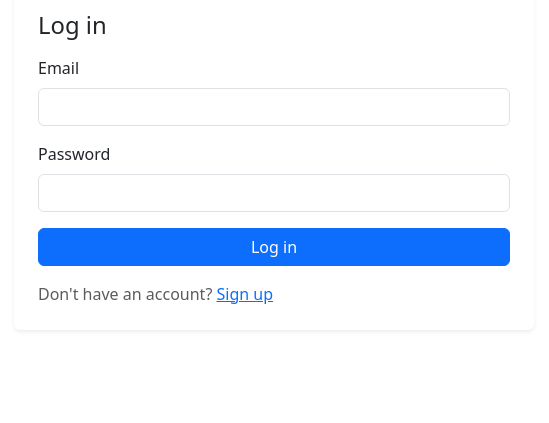
it: LoginPage › shows "Invalid email or password" for failed login
Type "test@example.com" into the field labelled "Email" at (274, 107), box x1=38 y1=88 x2=510 y2=126
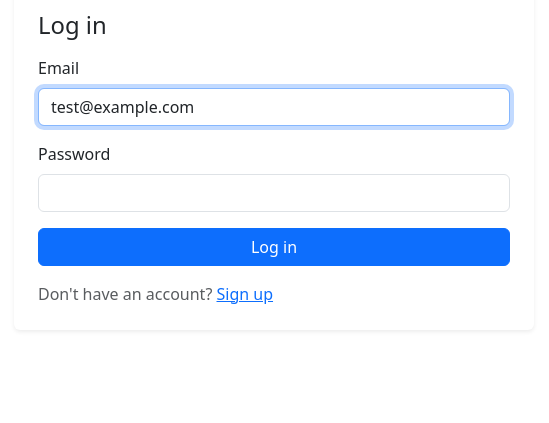
Type "password123" into the password field labelled "Password" at (274, 193), box x1=38 y1=174 x2=510 y2=212
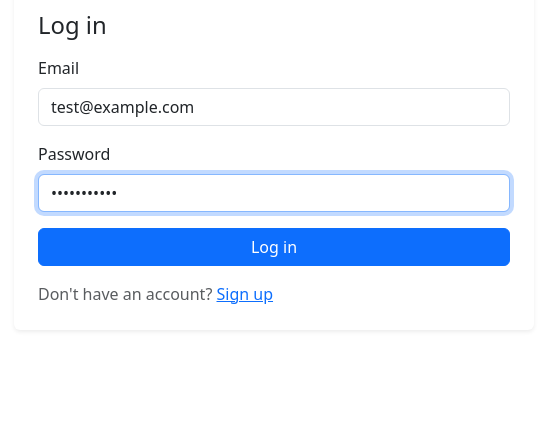
Click the button "Log in" at (274, 247), box x1=38 y1=228 x2=510 y2=266
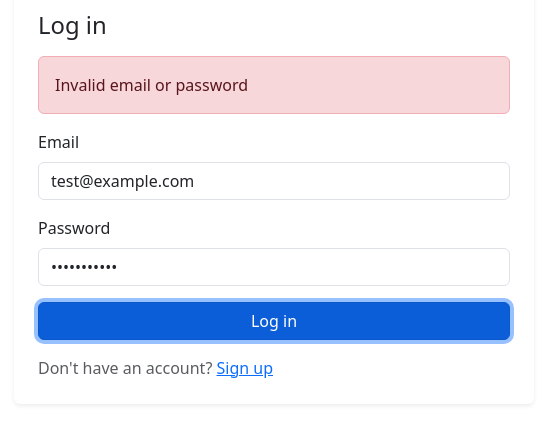
Expected: the text "Invalid email or password" is shown, x1=38 y1=56 x2=510 y2=114
